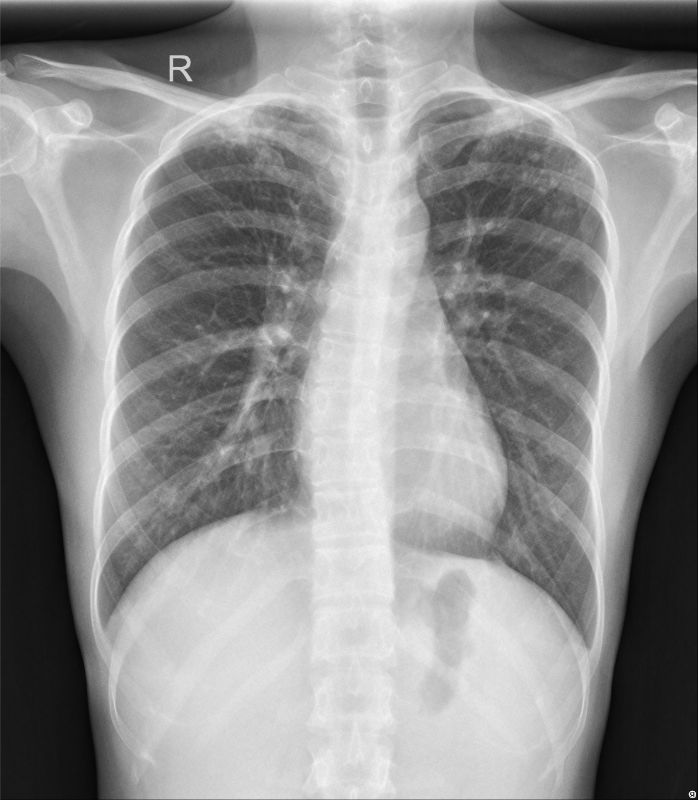Tuberculosis (TB): (474, 115, 556, 231), (200, 113, 298, 200)
